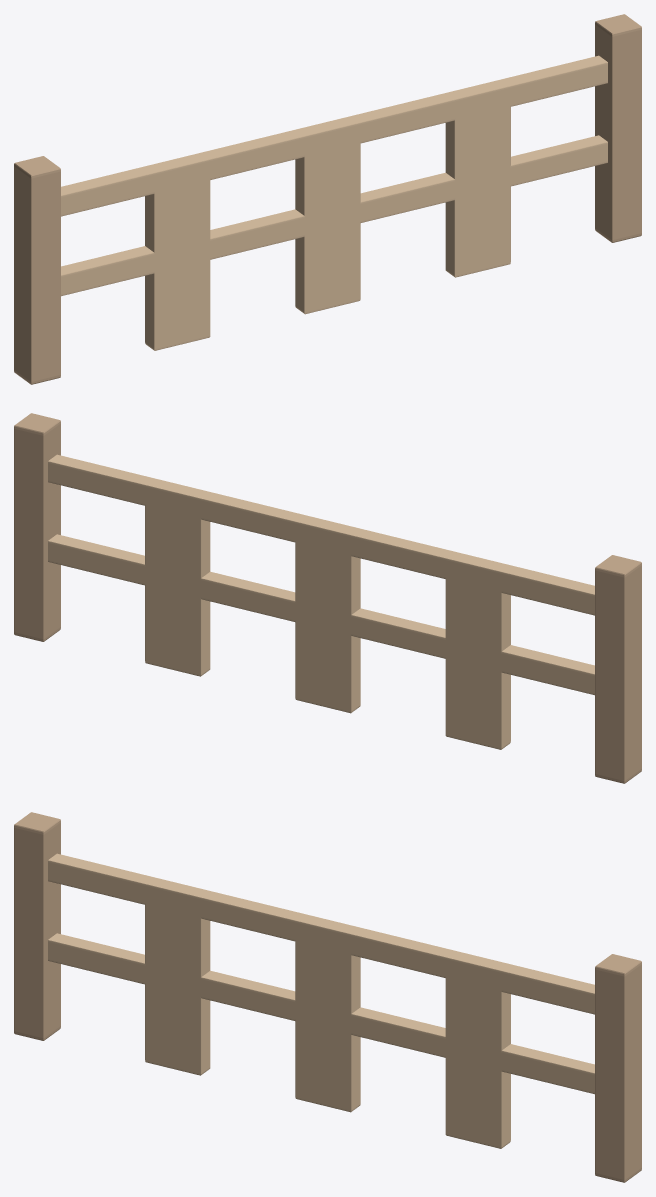
File: fence.glb
3 views of the same model, one above another, from view 1: azimuth 30°, elevation 25°; view 2: azimuth 150°, elevation 25°; view 3: azimuth 330°, elevation 25° (orthographic).
Parts seen in each view (by area): view 1: FenceWood, FencePost; view 2: FenceWood, FencePost; view 3: FenceWood, FencePost.
Part boxes in pixels (<box>): FenceWood: <box>61,55,607,350</box>; FencePost: <box>14,14,641,384</box>; FenceWood: <box>48,454,594,749</box>; FencePost: <box>14,413,641,783</box>; FenceWood: <box>48,853,594,1148</box>; FencePost: <box>14,812,641,1182</box>.
Size of the model in its own units: 3.05 by 1 by 0.15.
